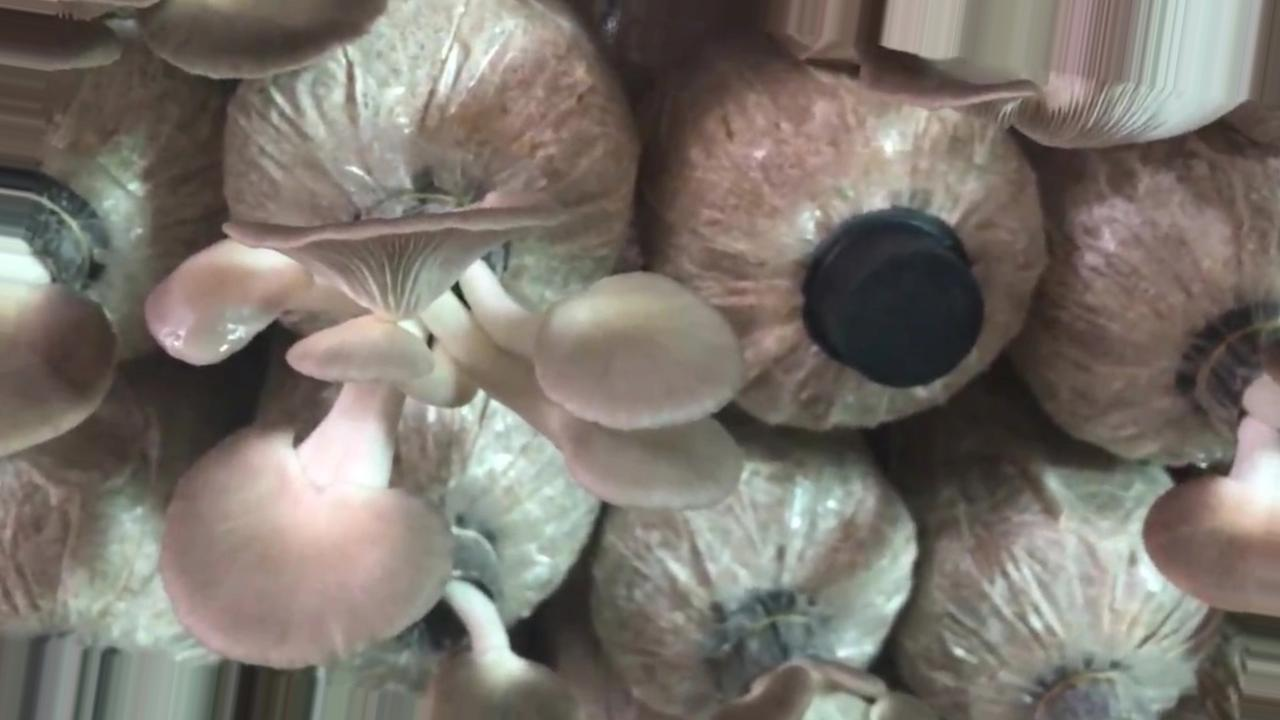nam: (143, 202, 748, 673), (1141, 323, 1280, 617), (1, 177, 124, 458)
